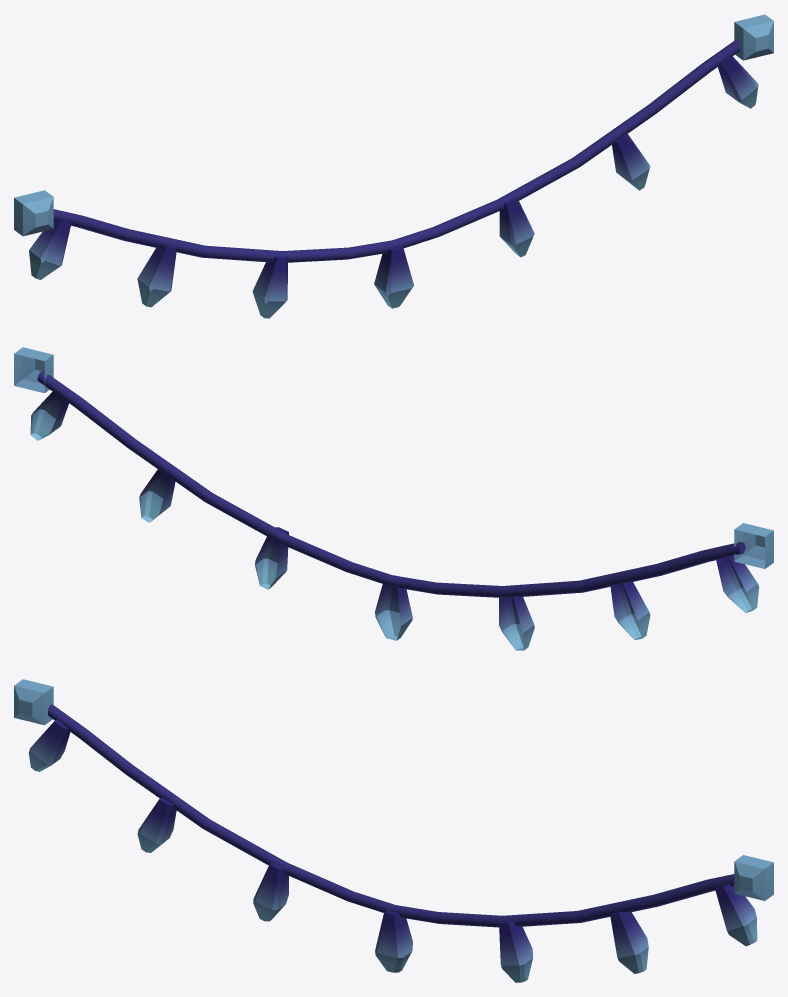
The model's file is Bunch_of_crystals_03.fbx.
3 renders of one model, top to bottom at view 1: azimuth 30°, elevation 25°; view 2: azimuth 150°, elevation 25°; view 3: azimuth 330°, elevation 25°, orthographic.
Parts seen in each view (by area): view 1: Bunch_of_crystals_03; view 2: Bunch_of_crystals_03; view 3: Bunch_of_crystals_03.
Boxes of the visible parts, x1,y1,x2,y2 form: Bunch_of_crystals_03: (14, 14, 773, 318); Bunch_of_crystals_03: (14, 347, 773, 650); Bunch_of_crystals_03: (14, 679, 773, 982).
Bounding box in the file's own units: 400 × 99.97 × 13.29.
